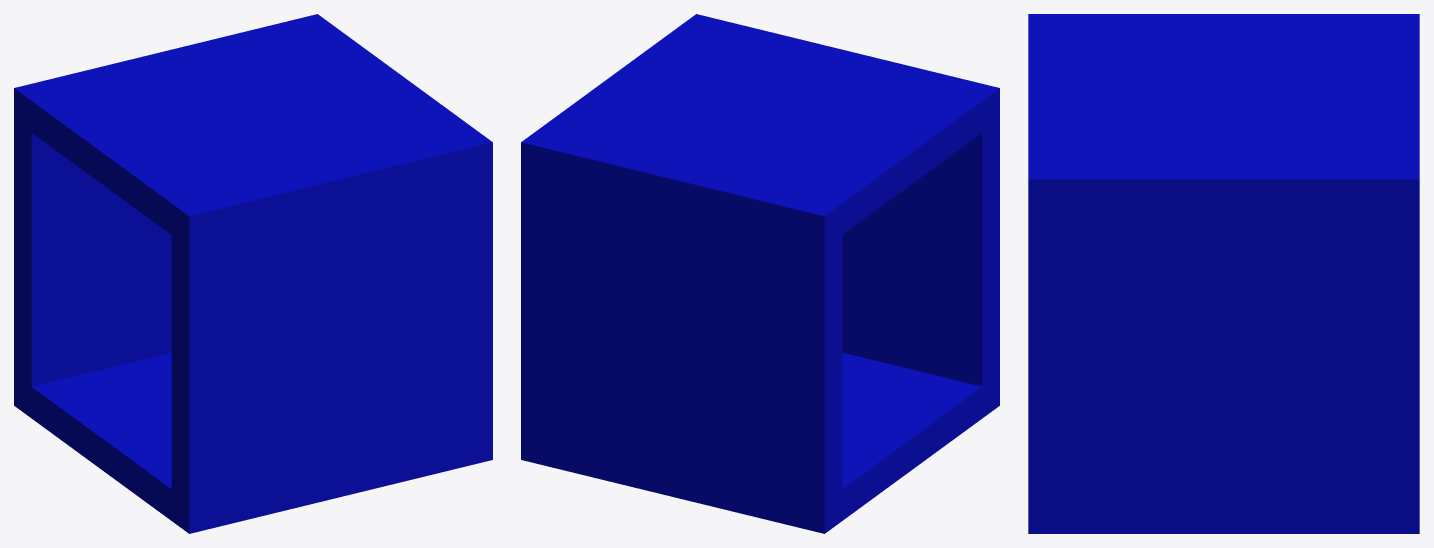
Rendered from compartment.obj.
3 renders of one model, left to right at view 1: azimuth 30°, elevation 25°; view 2: azimuth 150°, elevation 25°; view 3: azimuth 270°, elevation 25°, orthographic. The views are drawn at different scales.
Parts seen in each view (by area): view 1: Mesh_Cube.006; view 2: Mesh_Cube.006; view 3: Mesh_Cube.006.
Boxes of the visible parts, x1,y1,x2,y2 form: Mesh_Cube.006: [14, 14, 492, 533]; Mesh_Cube.006: [521, 14, 999, 533]; Mesh_Cube.006: [1028, 14, 1419, 533].
Bounding box in the file's own units: 0.5 × 0.5 × 0.5.
